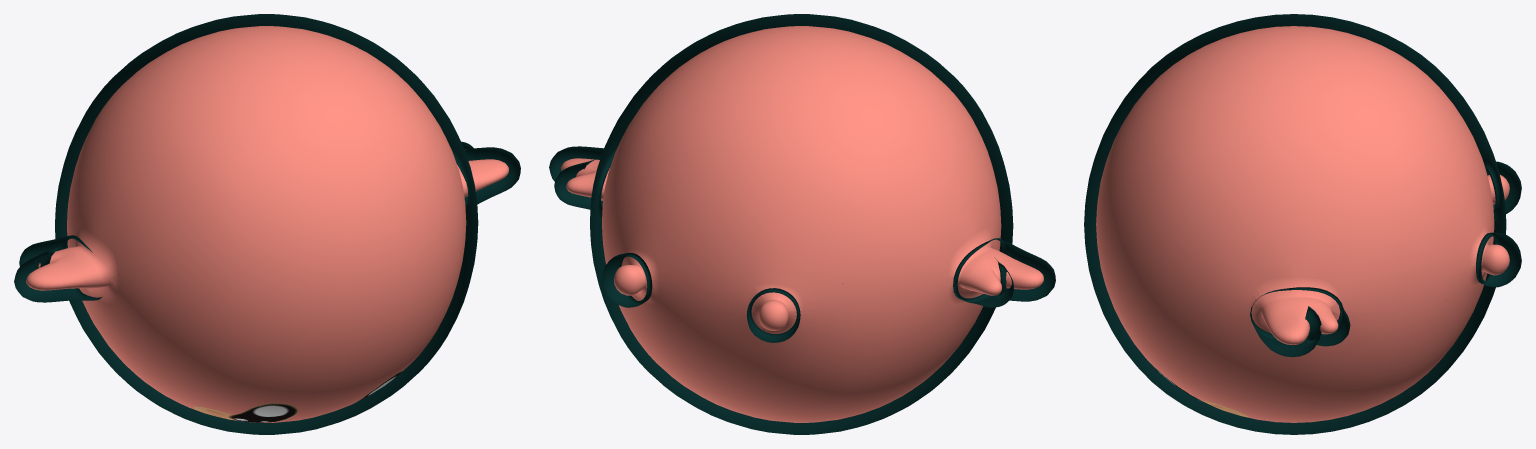
Rendered from chorb_red.glb.
3 renders of one model, left to right at view 1: azimuth 30°, elevation 25°; view 2: azimuth 150°, elevation 25°; view 3: azimuth 270°, elevation 25°, orthographic.
Parts seen in each view (by area): view 1: AppliedShaped; view 2: AppliedShaped; view 3: AppliedShaped.
Boxes of the visible parts, bbox=[...] form: AppliedShaped: bbox=[14, 14, 520, 434]; AppliedShaped: bbox=[549, 14, 1055, 434]; AppliedShaped: bbox=[1084, 14, 1521, 434].
Bounding box in the file's own units: 4.8 × 3.49 × 3.64.
2 materials, 1 textured.
